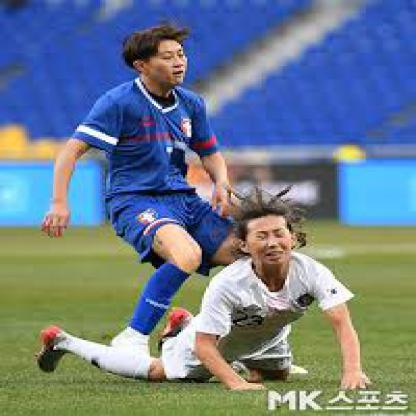Fall_Down: (34, 194, 379, 395)
